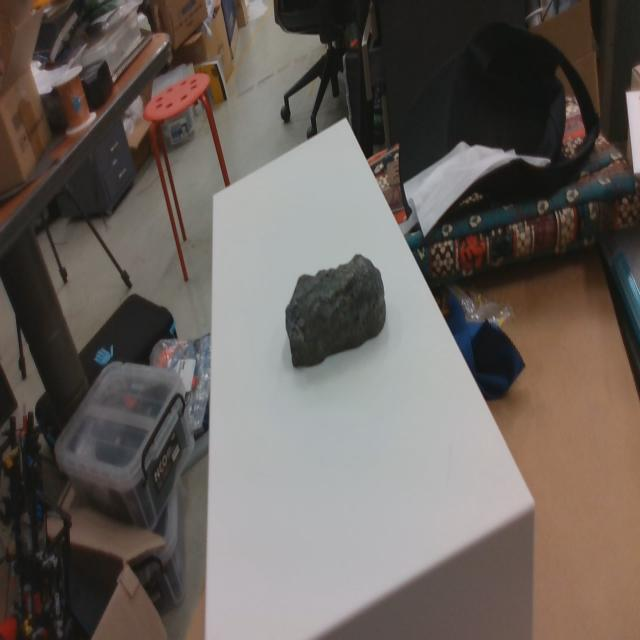stone: (285, 254, 386, 368)
